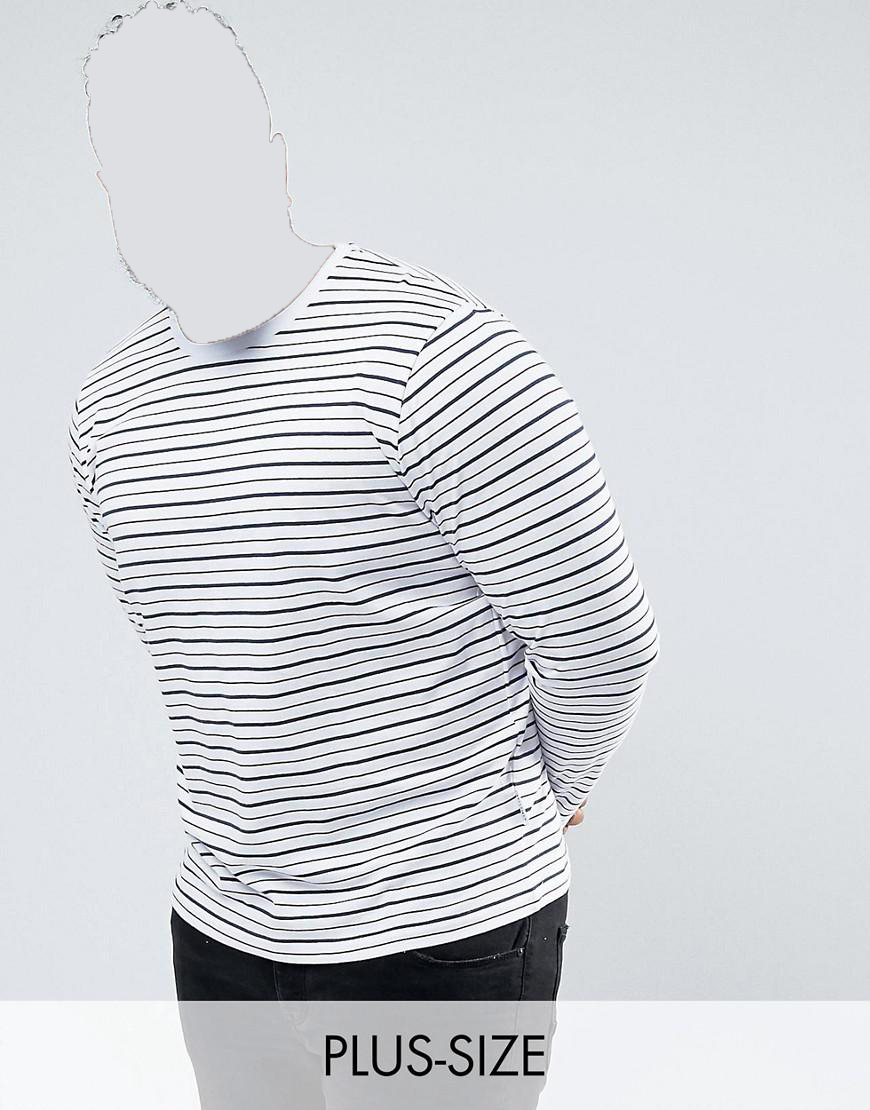teeshirt: (51, 251, 647, 961)
